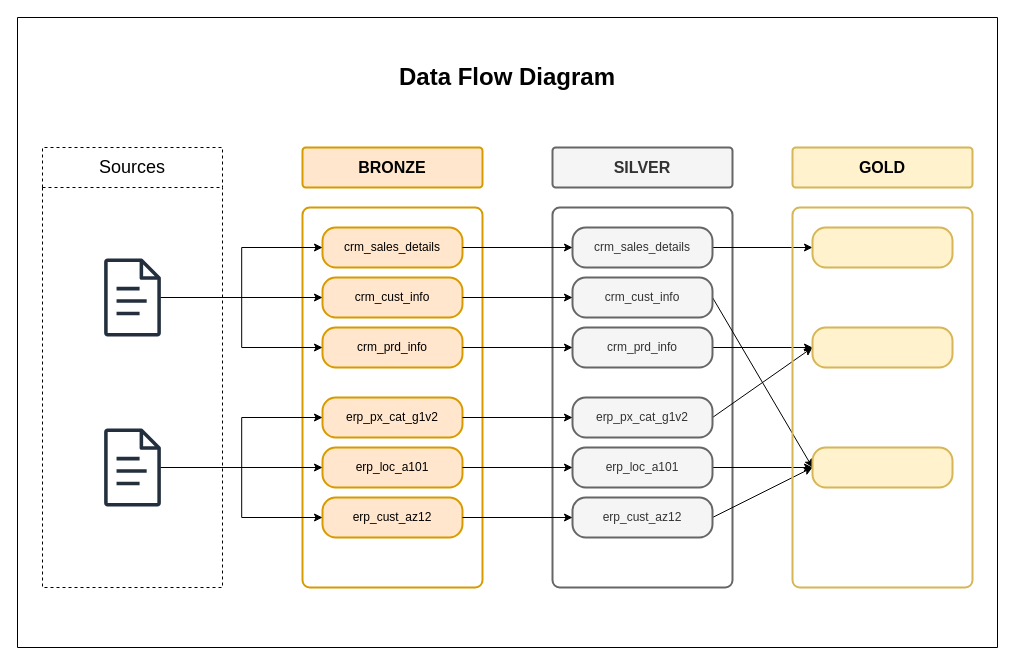
Some shapes in this 1015 by 665 pixel diagram are drawn without their labels. Here are the shapes that lost their labels. From the top down, the centre of each, then its label:
At point 882,247: "fact_sales".
At point 132,297: "CRM".
At point 882,347: "dim_products".
At point 132,467: "ERP".
At point 882,467: "dim_customers".
